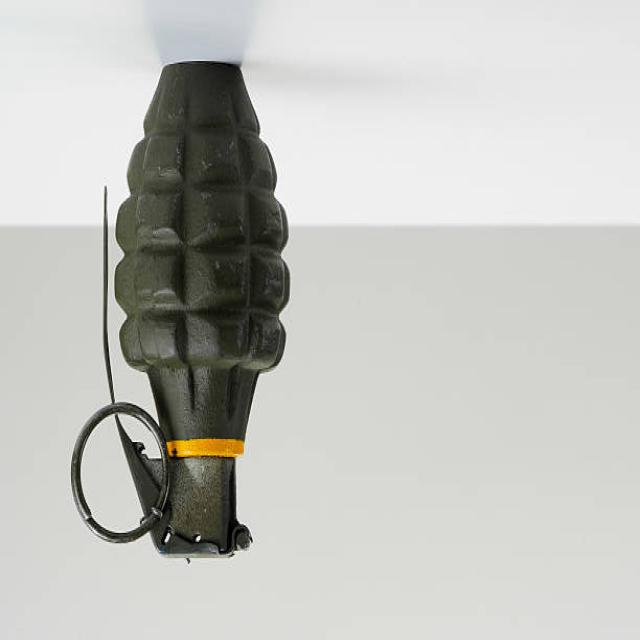grenade: (64, 49, 296, 572)
